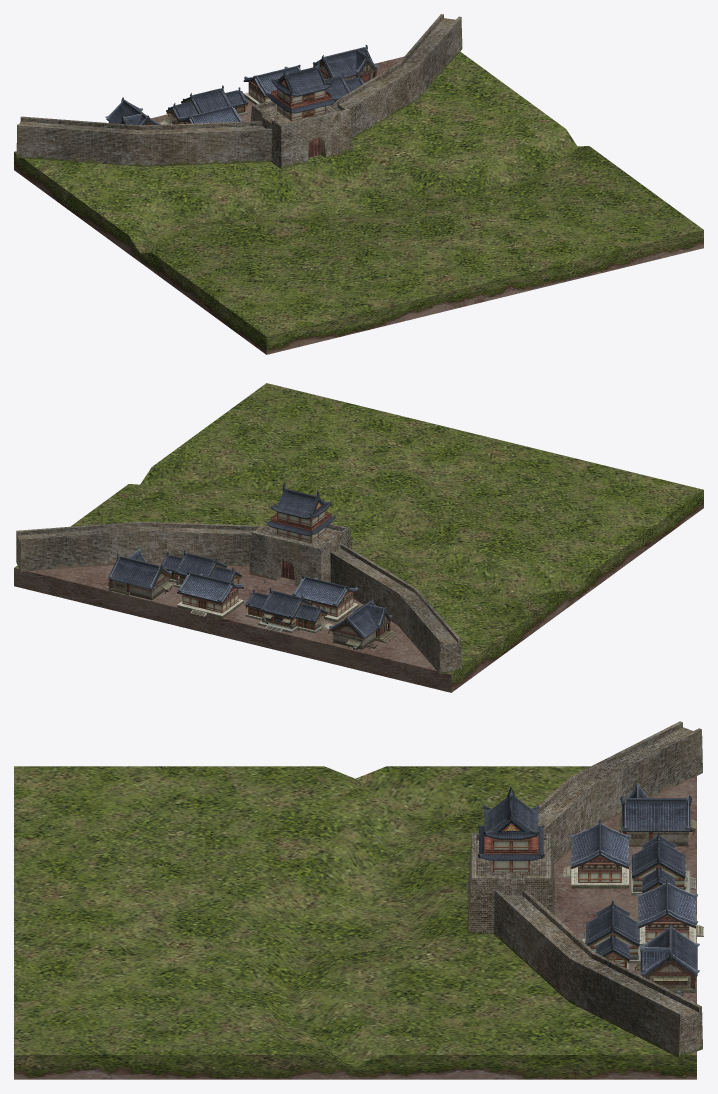
The model's file is map015.FBX.
The picture shows the model from 3 angles, top to bottom: view 1: azimuth 30°, elevation 25°; view 2: azimuth 150°, elevation 25°; view 3: azimuth 270°, elevation 25°; orthographic projection. The views are drawn at different scales.
Parts seen in each view (by area): view 1: map015, Box075, Box080, Box074, house171, house183, house185, house184; view 2: map015, Box080, Box075, house183, house185, Box074, house184, house171; view 3: map015, Box080, Box075, house184, house183, house185, Box074, house171.
Part boxes in pixels (left/top/right/bottom): map015: left=14, top=51, right=703, bottom=354; Box075: left=16, top=116, right=272, bottom=166; Box080: left=335, top=14, right=462, bottom=138; Box074: left=250, top=100, right=353, bottom=169; house171: left=267, top=60, right=336, bottom=120; house183: left=105, top=45, right=378, bottom=125; house185: left=157, top=72, right=364, bottom=124; house184: left=178, top=64, right=300, bottom=123; map015: left=14, top=383, right=703, bottom=692; Box080: left=16, top=521, right=265, bottom=571; Box075: left=330, top=543, right=461, bottom=673; house183: left=108, top=548, right=397, bottom=650; house185: left=156, top=550, right=333, bottom=633; Box074: left=249, top=523, right=352, bottom=585; house184: left=177, top=571, right=358, bottom=621; house171: left=266, top=483, right=335, bottom=543; map015: left=14, top=766, right=696, bottom=1079; Box080: left=494, top=890, right=702, bottom=1057; Box075: left=538, top=721, right=702, bottom=864; house184: left=563, top=820, right=703, bottom=945; house183: left=618, top=783, right=699, bottom=996; house185: left=581, top=832, right=696, bottom=969; Box074: left=467, top=832, right=554, bottom=934; house171: left=478, top=787, right=544, bottom=872.
Bounding box in the file's own units: 102 × 22.42 × 101.
